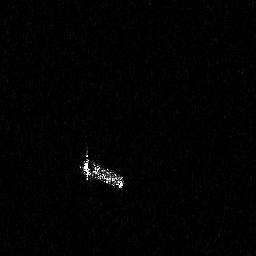ship: (78, 145, 128, 194)
